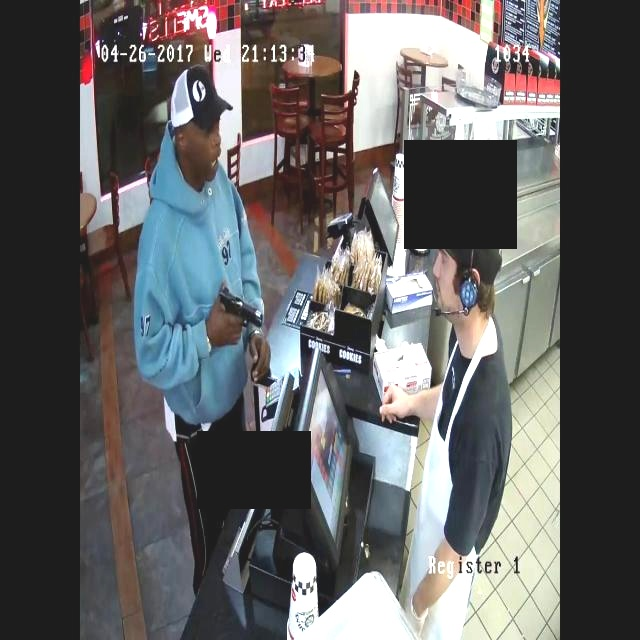gun: (202, 272, 271, 341)
